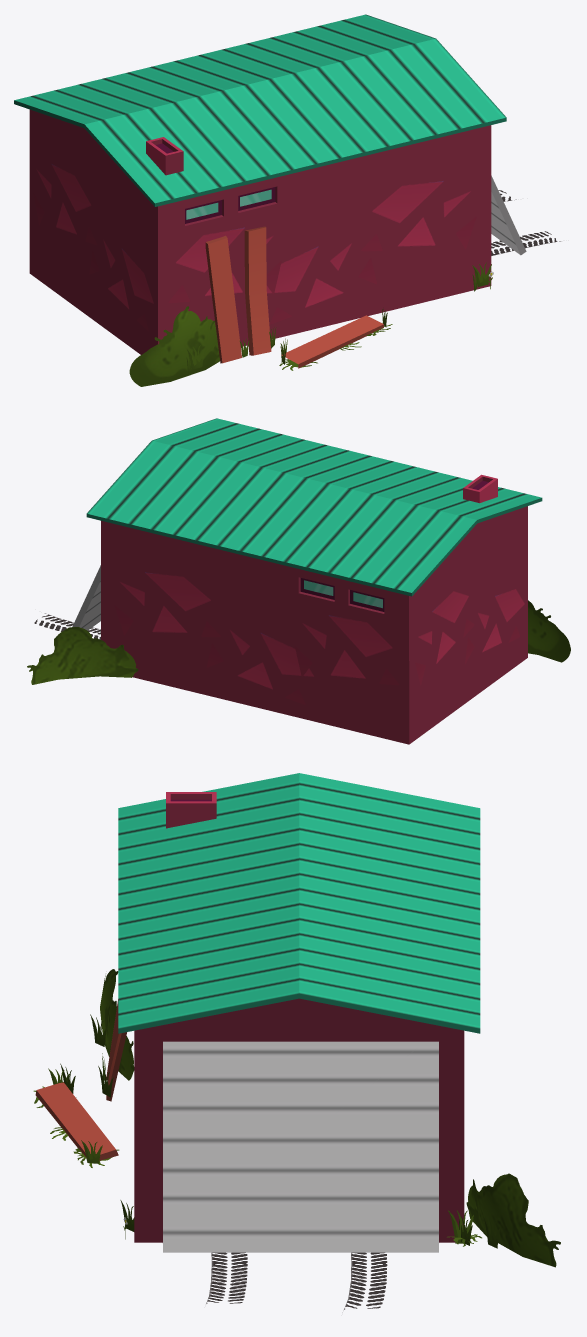
File: Garage.fbx
The picture shows the model from 3 angles, top to bottom: view 1: azimuth 30°, elevation 25°; view 2: azimuth 150°, elevation 25°; view 3: azimuth 270°, elevation 25°; orthographic projection. The views are drawn at different scales.
Parts seen in each view (by area): view 1: Garage; view 2: Garage; view 3: Garage.
Part boxes in pixels (<box>): Garage: <box>14,14,561,386</box>; Garage: <box>27,418,570,744</box>; Garage: <box>33,773,560,1312</box>.
Bounding box in the file's own units: 634 × 247 × 476.
